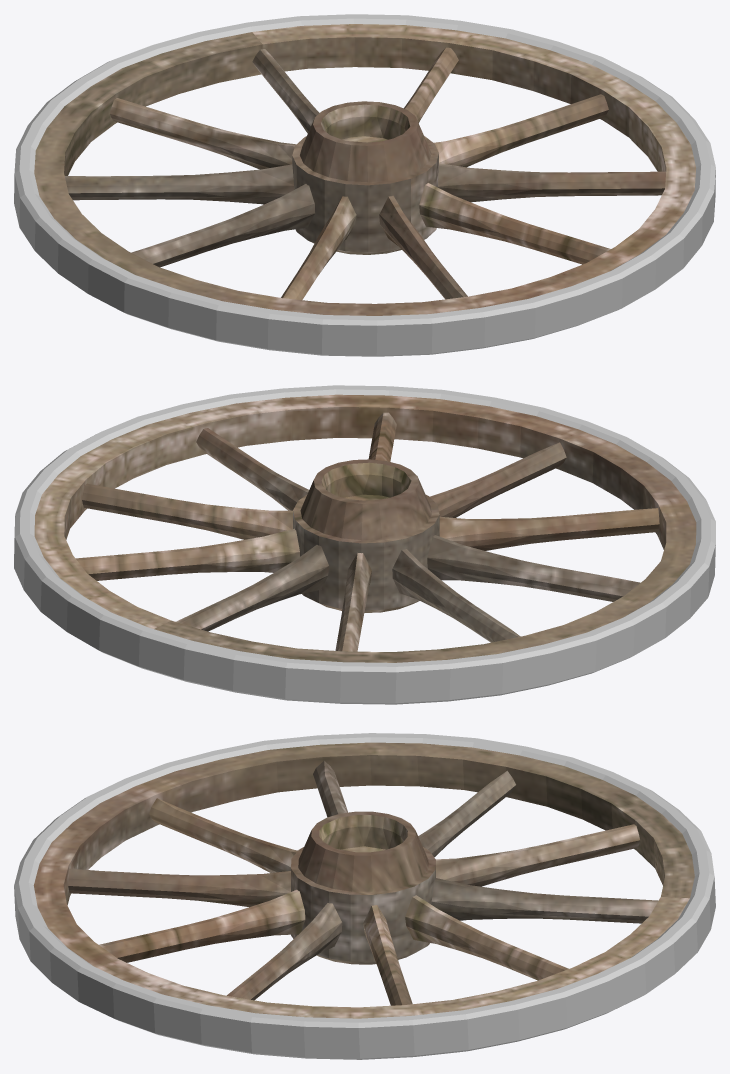
File: SM_CartWheel_01.fbx
3 views of the same model, one above another, from view 1: azimuth 30°, elevation 25°; view 2: azimuth 150°, elevation 25°; view 3: azimuth 270°, elevation 25° (orthographic).
Parts seen in each view (by area): view 1: SM_CartWheel_01_LOD0; view 2: SM_CartWheel_01_LOD0; view 3: SM_CartWheel_01_LOD0.
Part boxes in pixels (box(x1,y1,x2,y2)): SM_CartWheel_01_LOD0: box(14, 14, 715, 356); SM_CartWheel_01_LOD0: box(14, 385, 715, 704); SM_CartWheel_01_LOD0: box(14, 733, 715, 1059).
Size of the model in its own units: 87.68 by 87.78 by 14.53.
